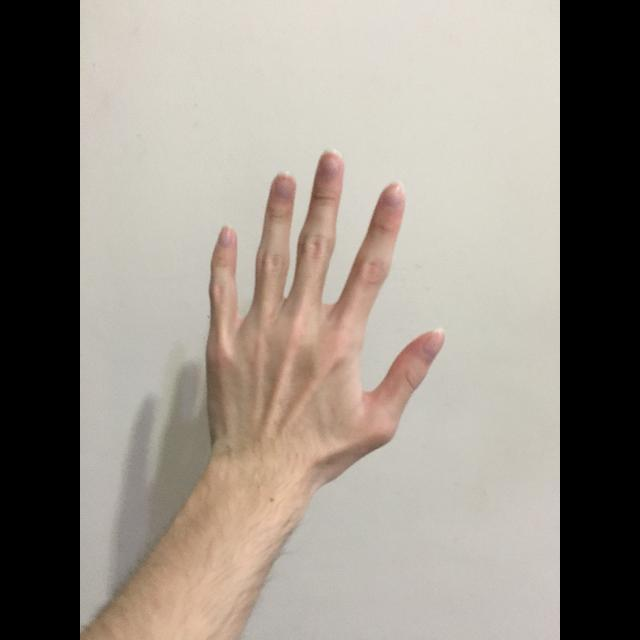bare_hand: (204, 147, 448, 477)
